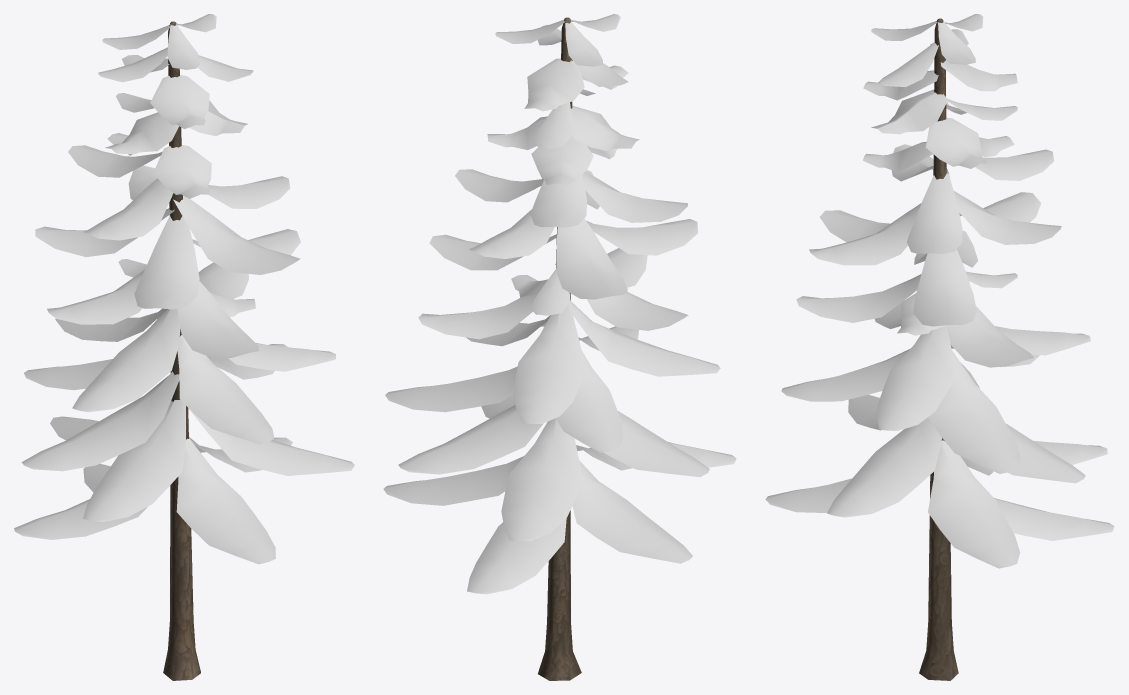
The model's file is tree05_main_LOD1.fbx.
3 views of the same model, side by side, from view 1: azimuth 30°, elevation 25°; view 2: azimuth 150°, elevation 25°; view 3: azimuth 270°, elevation 25° (orthographic).
Parts seen in each view (by area): view 1: Cylinder.024; view 2: Cylinder.024; view 3: Cylinder.024.
Part boxes in pixels (x1,y1,x2,y2): Cylinder.024: (14, 14, 354, 680); Cylinder.024: (383, 14, 736, 680); Cylinder.024: (765, 14, 1114, 680).
Bounding box in the file's own units: 525 × 1113 × 542.
